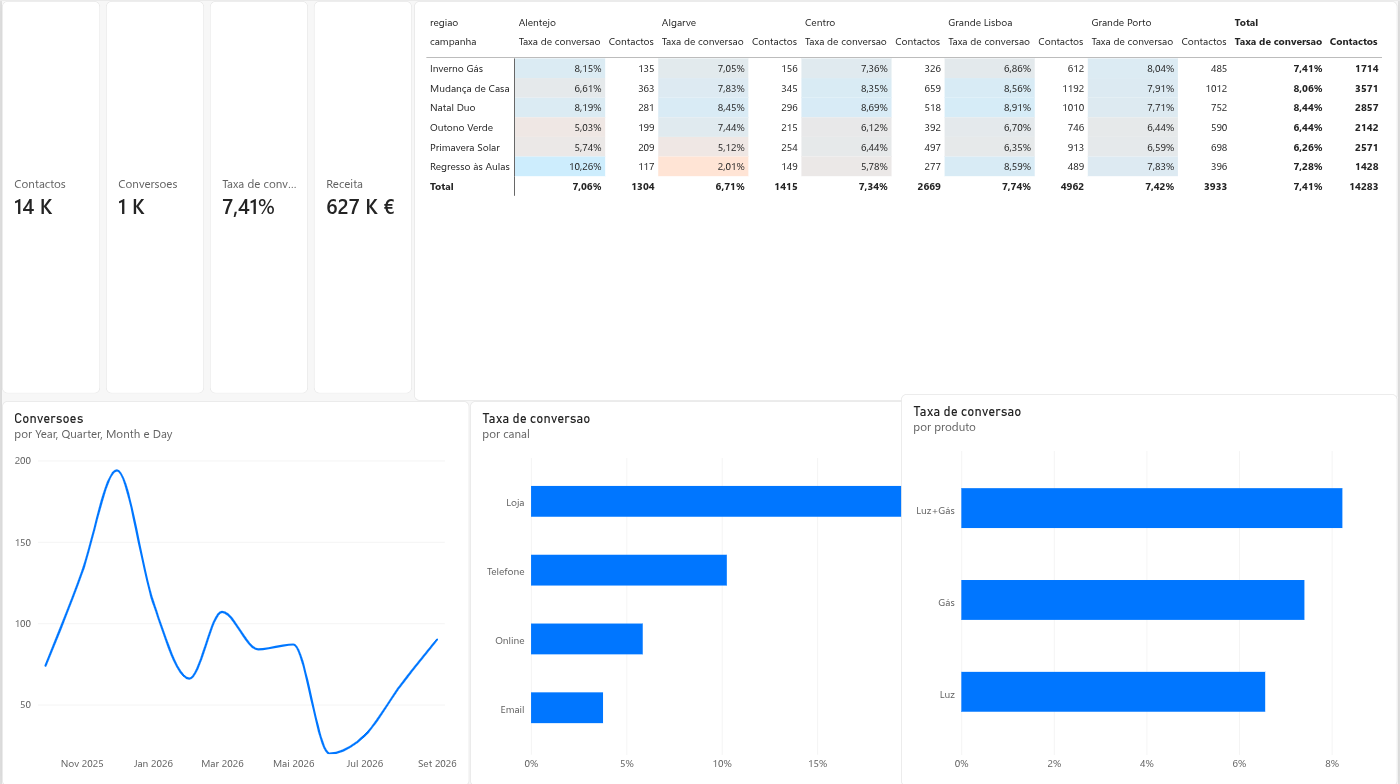

This screenshot's page, from the dashboard's own definition file:
{"tool":"powerbi","page":{"name":"Página 1","canvas":[1920,1080],"ordinal":0},"visuals":[{"type":"cardVisual","fields":{"Data":["fact_contactos.Contactos","fact_contactos.Conversoes","fact_contactos.Taxa de conversao","fact_contactos.Receita"]},"box":[40,0,1004,540],"z":0},{"type":"lineChart","fields":{"Category":["dim_data.mes.Variação.Date Hierarchy.Year","dim_data.mes.Variação.Date Hierarchy.Quarter","dim_data.mes.Variação.Date Hierarchy.Month","dim_data.mes.Variação.Date Hierarchy.Day"],"Y":["fact_contactos.Conversoes"]},"box":[40,550,430,530],"z":1000},{"type":"barChart","fields":{"Category":["dim_canal.canal"],"Y":["fact_contactos.Taxa de conversao"]},"box":[470,550,574,530],"z":2000},{"type":"pivotTable","fields":{"Columns":["dim_regiao.regiao"],"Rows":["dim_campanha.campanha"],"Values":["fact_contactos.Taxa de conversao","fact_contactos.Contactos"]},"box":[1055.7,0,760,318.6],"z":2001},{"type":"barChart","fields":{"Category":["dim_campanha.produto"],"Y":["fact_contactos.Taxa de conversao"]},"box":[1056,319,760,221],"z":2002}]}

Visuals, with their boxes in screenshot pixels (x1, y1, x2, y2), scaled from the page's 1920x1080 canvas onto the 1400x784 screenshot:
cardVisual - fact_contactos.Contactos x fact_contactos.Conversoes: bbox=[29, 0, 761, 392]
lineChart - dim_data.mes.Variação.Date Hierarchy.Year x dim_data.mes.Variação.Date Hierarchy.Quarter: bbox=[29, 399, 343, 783]
barChart - dim_canal.canal x fact_contactos.Taxa de conversao: bbox=[343, 399, 761, 783]
pivotTable - dim_regiao.regiao x dim_campanha.campanha: bbox=[770, 0, 1324, 231]
barChart - dim_campanha.produto x fact_contactos.Taxa de conversao: bbox=[770, 232, 1324, 392]
